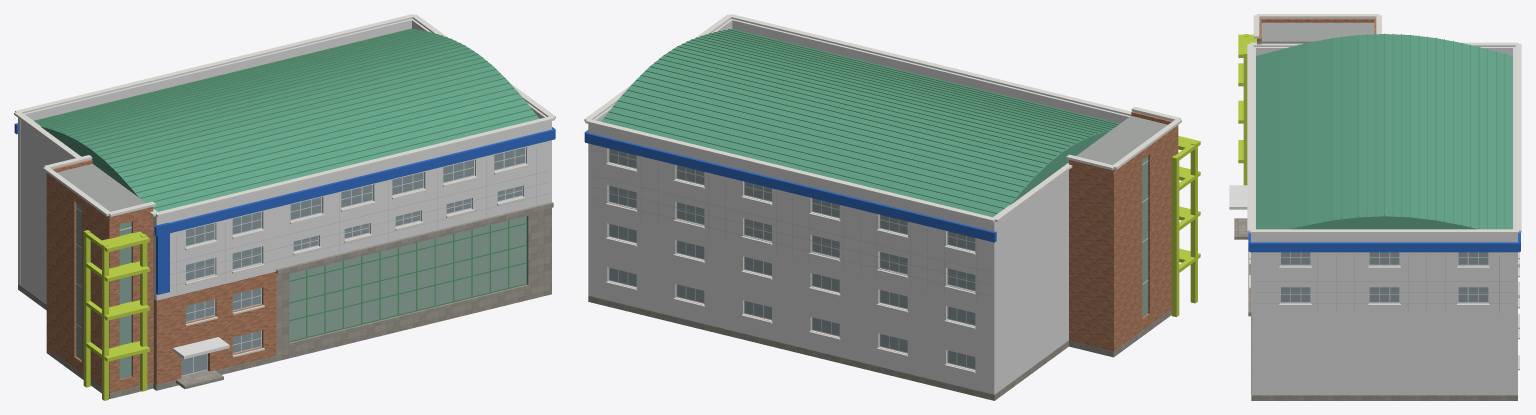
The picture shows the model from 3 angles, left to right: view 1: azimuth 30°, elevation 25°; view 2: azimuth 150°, elevation 25°; view 3: azimuth 270°, elevation 25°; orthographic projection. The views are drawn at different scales.
Parts seen in each view (by area): view 1: hwawon-hall__greenroof, hwawon-hall__whitetile, hwawon-hall__greenframe, hwawon-hall__peach, hwawon-hall__hallglass, hwawon-hall__stone, hwawon-hall__glass, hwawon-hall__coping, hwawon-hall__lime, hwawon-hall__blueband, hwawon-hall__frame, hwawon-hall__towerglass (+5 smaller); view 2: hwawon-hall__whitetile, hwawon-hall__greenroof, hwawon-hall__peach, hwawon-hall__greenframe, hwawon-hall__sideglass, hwawon-hall__coping, hwawon-hall__blueband, hwawon-hall__stone, hwawon-hall__lime, hwawon-hall__frame, hwawon-hall__sillband, hwawon-hall__roof (+2 smaller); view 3: hwawon-hall__greenroof, hwawon-hall__whitetile, hwawon-hall__greenframe, hwawon-hall__coping, hwawon-hall__blueband, hwawon-hall__sideglass, hwawon-hall__roof, hwawon-hall__stone, hwawon-hall__lime, hwawon-hall__tilejoint, hwawon-hall__frame, hwawon-hall__sillband (+3 smaller).
Part boxes in pixels (bbox=[...]): hwawon-hall__greenroof: bbox=[34, 28, 539, 211]; hwawon-hall__whitetile: bbox=[18, 18, 551, 382]; hwawon-hall__greenframe: bbox=[35, 28, 536, 342]; hwawon-hall__peach: bbox=[46, 159, 276, 392]; hwawon-hall__hallglass: bbox=[289, 216, 526, 341]; hwawon-hall__stone: bbox=[18, 202, 553, 398]; hwawon-hall__glass: bbox=[181, 147, 524, 375]; hwawon-hall__coping: bbox=[14, 14, 555, 216]; hwawon-hall__lime: bbox=[83, 230, 149, 400]; hwawon-hall__blueband: bbox=[14, 123, 555, 294]; hwawon-hall__frame: bbox=[76, 147, 525, 376]; hwawon-hall__towerglass: bbox=[76, 203, 131, 378]; hwawon-hall__whitetile: bbox=[588, 18, 1130, 394]; hwawon-hall__greenroof: bbox=[601, 29, 1119, 217]; hwawon-hall__peach: bbox=[1069, 111, 1178, 351]; hwawon-hall__greenframe: bbox=[604, 29, 1118, 213]; hwawon-hall__sideglass: bbox=[609, 149, 975, 368]; hwawon-hall__coping: bbox=[584, 14, 1181, 222]; hwawon-hall__blueband: bbox=[584, 130, 996, 242]; hwawon-hall__stone: bbox=[588, 296, 1171, 400]; hwawon-hall__lime: bbox=[1171, 136, 1200, 316]; hwawon-hall__frame: bbox=[608, 148, 1148, 369]; hwawon-hall__sillband: bbox=[605, 163, 975, 373]; hwawon-hall__roof: bbox=[1068, 116, 1167, 174]; hwawon-hall__greenroof: bbox=[1256, 34, 1512, 229]; hwawon-hall__whitetile: bbox=[1251, 47, 1517, 395]; hwawon-hall__greenframe: bbox=[1263, 33, 1505, 229]; hwawon-hall__coping: bbox=[1247, 14, 1521, 233]; hwawon-hall__blueband: bbox=[1248, 232, 1520, 252]; hwawon-hall__sideglass: bbox=[1281, 252, 1488, 301]; hwawon-hall__roof: bbox=[1257, 22, 1374, 43]; hwawon-hall__stone: bbox=[1248, 251, 1517, 400]; hwawon-hall__lime: bbox=[1238, 34, 1256, 185]; hwawon-hall__tilejoint: bbox=[1255, 255, 1513, 312]; hwawon-hall__frame: bbox=[1280, 252, 1488, 302]; hwawon-hall__sillband: bbox=[1249, 251, 1519, 370].
Size of the model in its own units: 41.72 by 16.72 by 24.11.
Materials: 18 (2 with a texture image).
